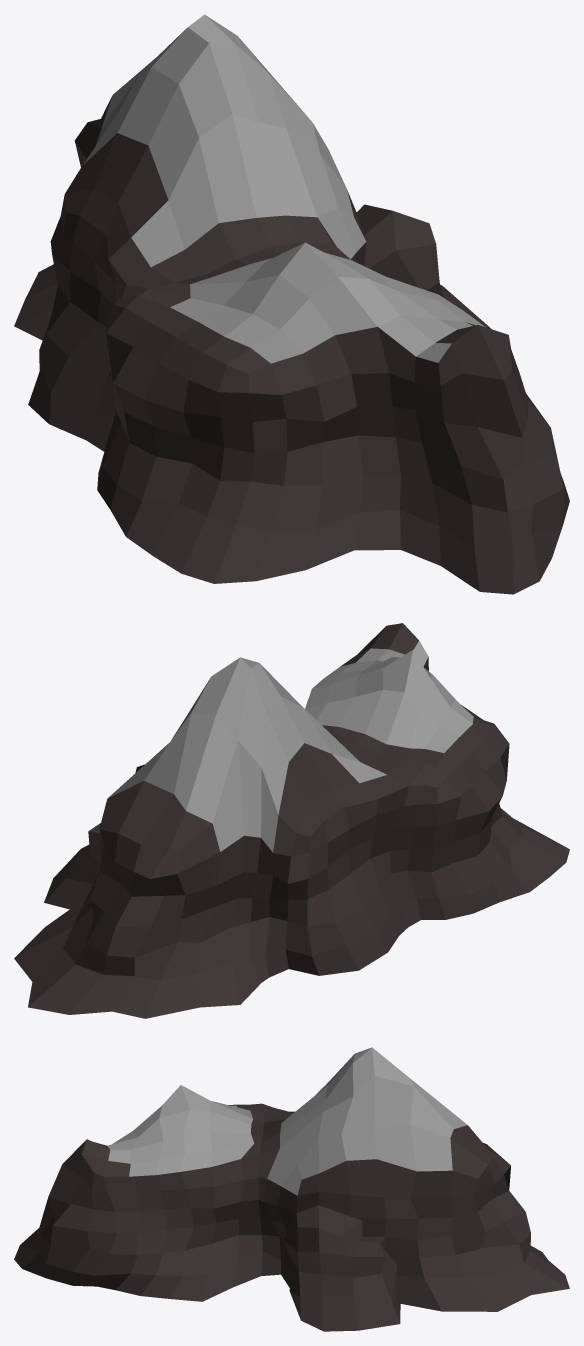
Rendered from GoraZeSniegiem.glb.
3 renders of one model, top to bottom at view 1: azimuth 30°, elevation 25°; view 2: azimuth 150°, elevation 25°; view 3: azimuth 270°, elevation 25°, orthographic. The views are drawn at different scales.
Visible parts, largest first — view 1: BigROCK.001; view 2: BigROCK.001; view 3: BigROCK.001.
Part boxes in pixels (left/top/right/bottom): BigROCK.001: left=14, top=14, right=569, bottom=594; BigROCK.001: left=14, top=623, right=569, bottom=1018; BigROCK.001: left=14, top=1047, right=569, bottom=1331.
Size of the model in its own units: 12.79 by 9.04 by 21.6.
1 material, 1 textured.
